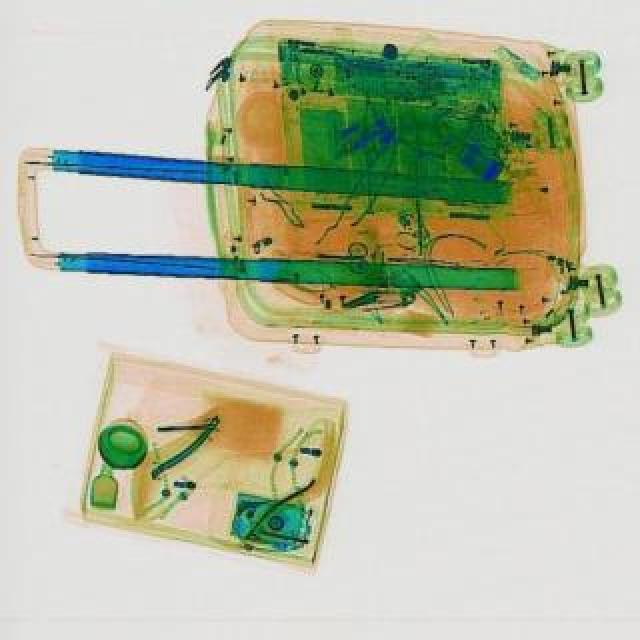pliers: (310, 238, 366, 274)
